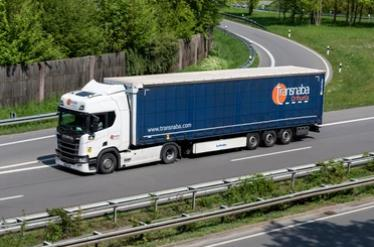vehicle: (54, 65, 326, 174)
